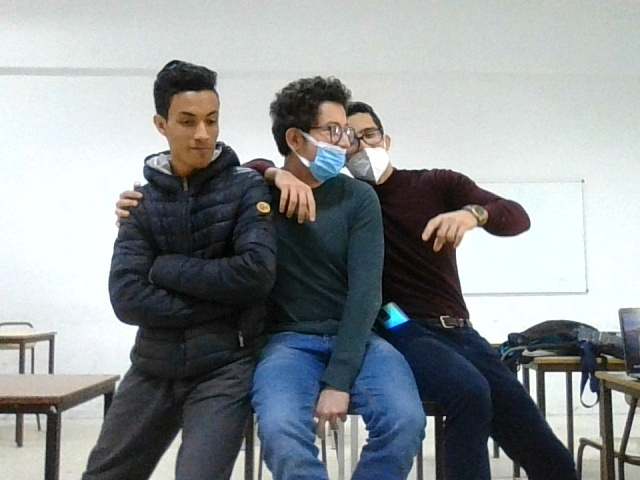mask_weared_incorrect: (273, 77, 351, 194), (349, 108, 399, 189)
without_mask: (147, 66, 222, 177)
